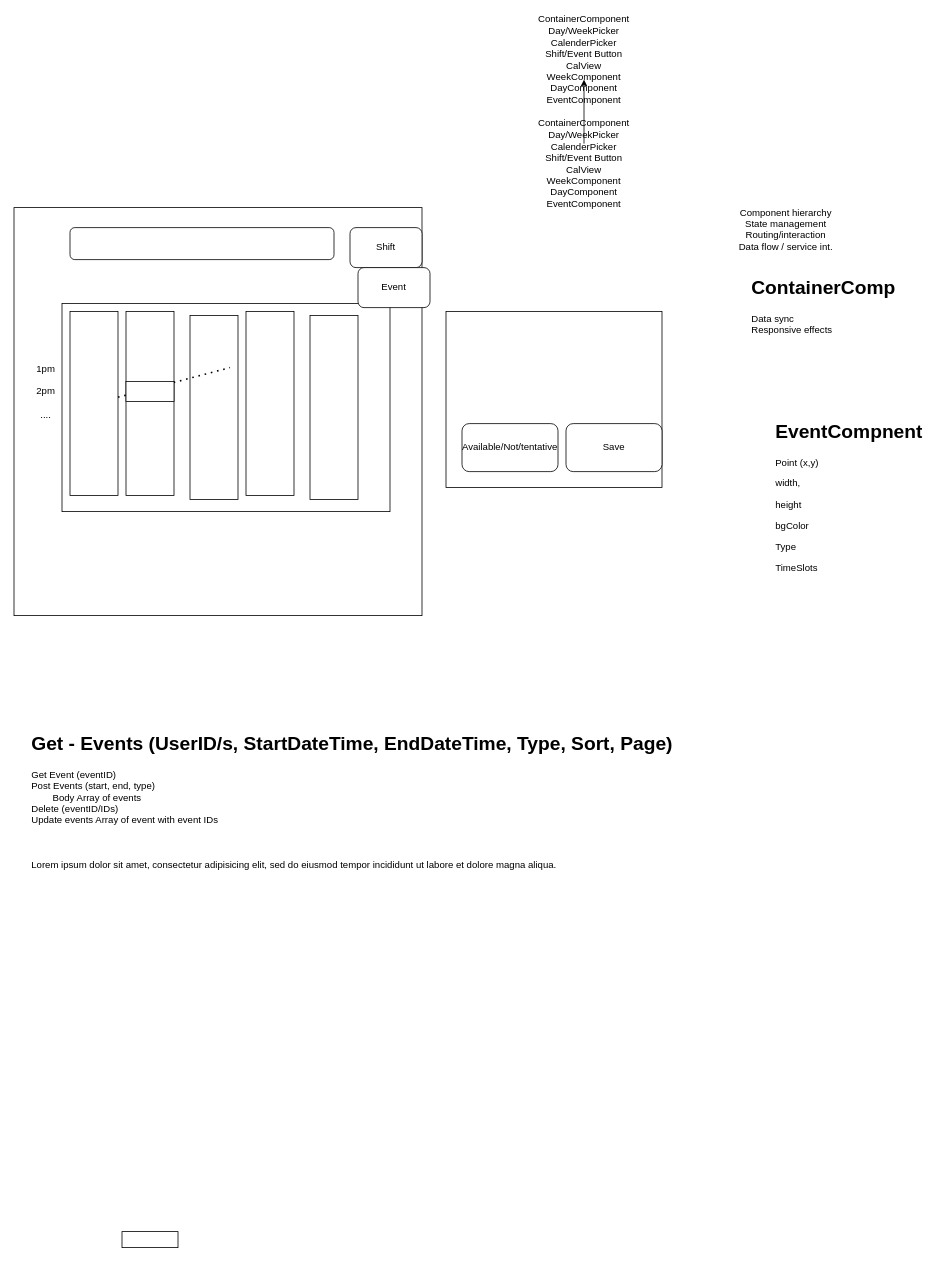
The diagram is 940 pixels wide and 1262 high, and some of its shapes have lost their labels. Here are the shapes that lost their labels. From the top down, the box of each, then its label:
(69, 227, 334, 260): Day/Week
(445, 311, 662, 488): Dates 1st 12am to 2nd 12pm, 5th 2-3pm
